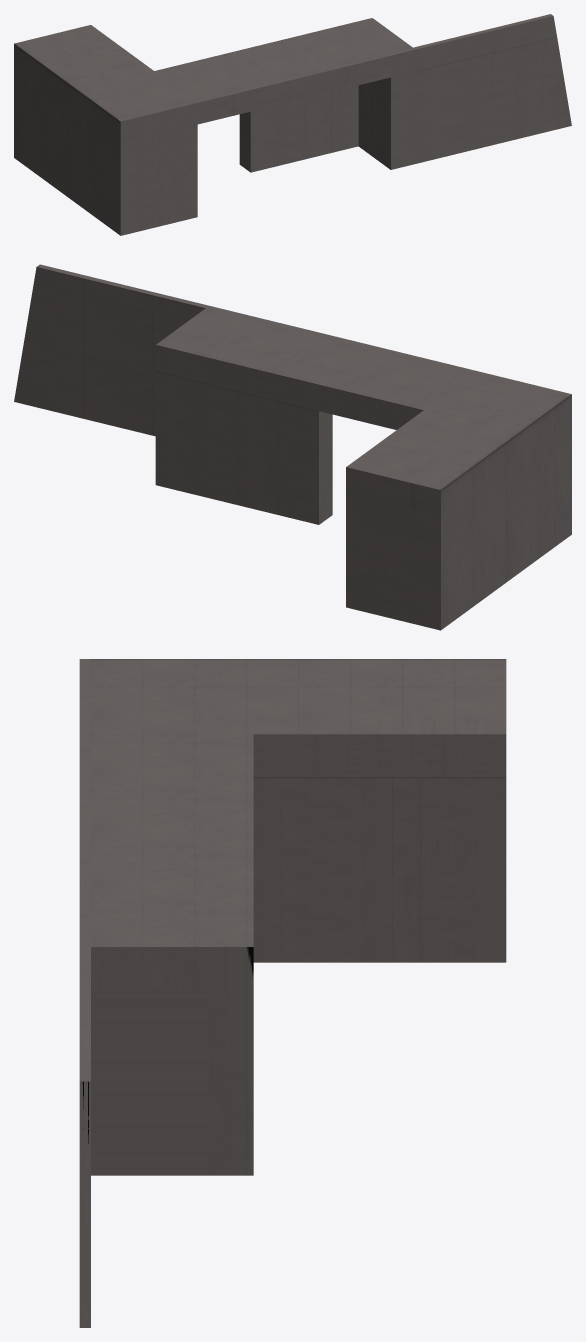
File: hall_bib_wall.fbx
The picture shows the model from 3 angles, top to bottom: view 1: azimuth 30°, elevation 25°; view 2: azimuth 150°, elevation 25°; view 3: azimuth 270°, elevation 25°; orthographic projection. The views are drawn at different scales.
Parts seen in each view (by area): view 1: hall_bib_wall; view 2: hall_bib_wall; view 3: hall_bib_wall.
Boxes of the visible parts, x1,y1,x2,y2 form: hall_bib_wall: [14, 14, 571, 235]; hall_bib_wall: [14, 264, 571, 630]; hall_bib_wall: [79, 659, 506, 1327].
Size of the model in its own units: 2273 by 550 by 931.
1 material, 1 textured.
